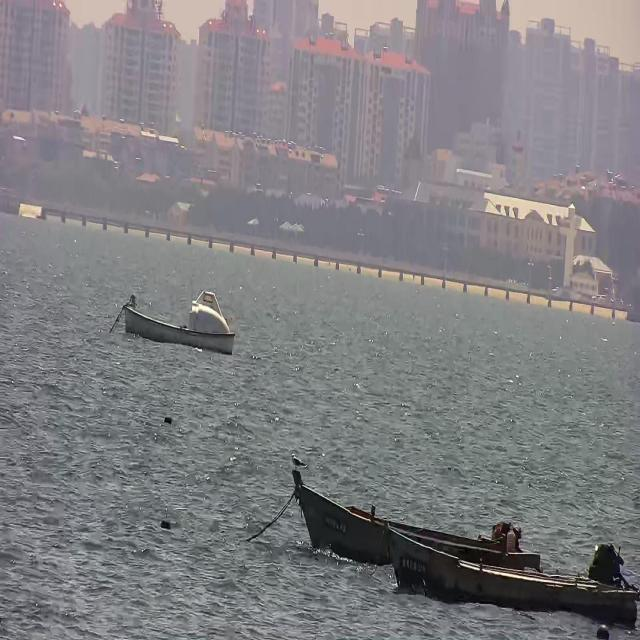CIV_Ship: (280, 464, 550, 578), (378, 512, 640, 624), (112, 288, 234, 360)
